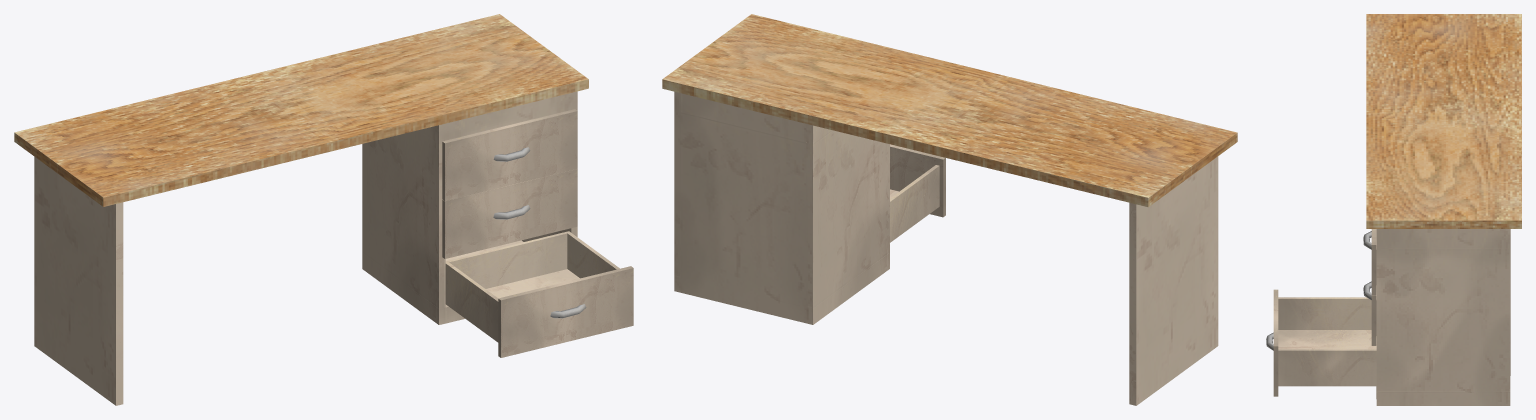
File: Desk1_Drawer3_CLOSED.fbx
3 renders of one model, left to right at view 1: azimuth 30°, elevation 25°; view 2: azimuth 150°, elevation 25°; view 3: azimuth 270°, elevation 25°, orthographic. The views are drawn at different scales.
Parts seen in each view (by area): view 1: Desk, polySurface54, polySurface46, polySurface50; view 2: Desk, polySurface54; view 3: Desk, polySurface54, polySurface46, polySurface50.
Boxes of the visible parts, x1,y1,x2,y2 form: Desk: (14, 14, 588, 405); polySurface54: (445, 231, 633, 357); polySurface46: (442, 109, 577, 200); polySurface50: (442, 169, 577, 258); Desk: (662, 14, 1237, 405); polySurface54: (890, 144, 945, 242); Desk: (1366, 14, 1521, 405); polySurface54: (1266, 289, 1376, 396); polySurface46: (1363, 229, 1376, 295); polySurface50: (1363, 281, 1376, 345).
Bounding box in the file's own units: 8.44 × 3.57 × 4.42.
1 material, 1 textured.
